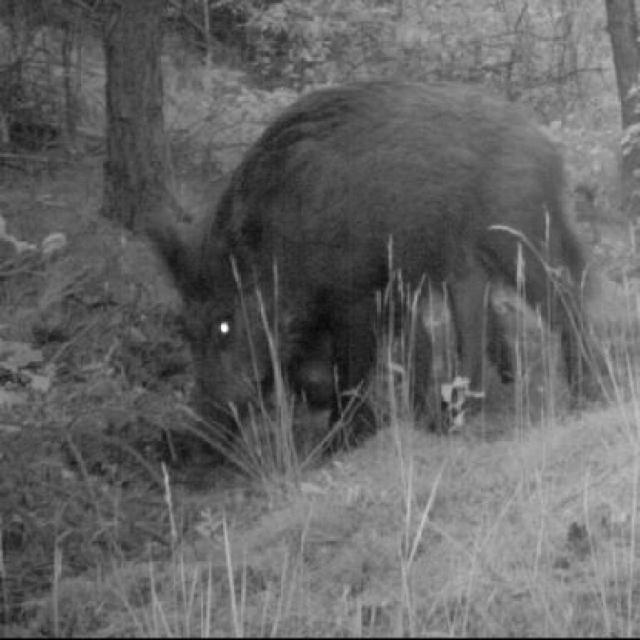Boar: (169, 91, 600, 455)
